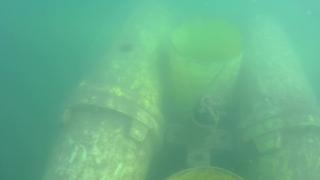pipe: (42, 1, 176, 179), (228, 8, 320, 180), (167, 14, 245, 123), (161, 165, 245, 180)
